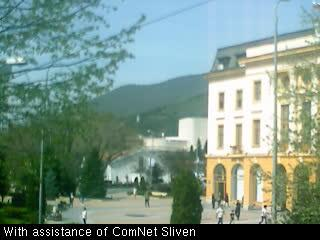person: (215, 206, 225, 224), (259, 205, 268, 224), (234, 200, 241, 222), (223, 192, 230, 207), (144, 191, 150, 208), (81, 207, 87, 224), (229, 209, 235, 224), (70, 192, 75, 208), (211, 193, 216, 209), (240, 194, 245, 209), (216, 192, 221, 206), (133, 187, 137, 200)
